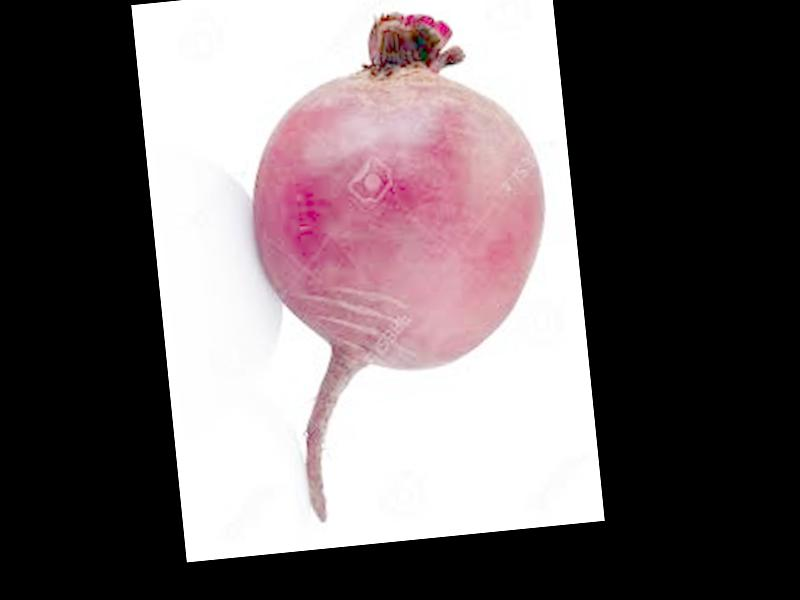Beet: (234, 5, 571, 526)
